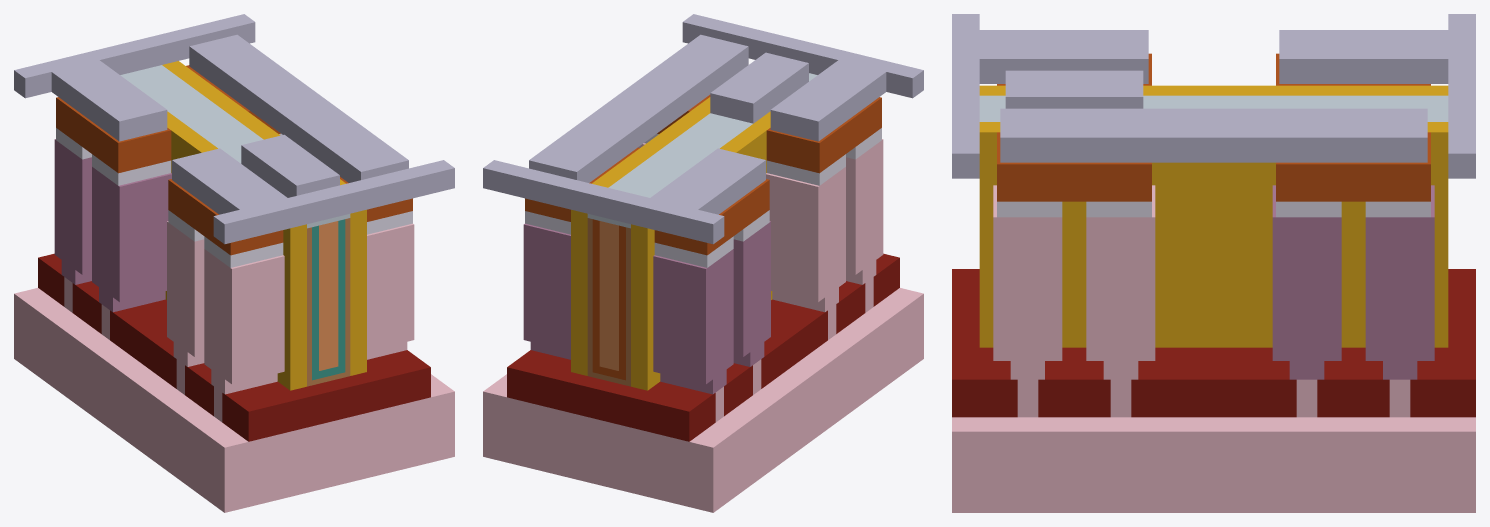
Rendered from inv_fin.obj.
3 views of the same model, side by side, from view 1: azimuth 30°, elevation 25°; view 2: azimuth 150°, elevation 25°; view 3: azimuth 270°, elevation 25° (orthographic). The views are drawn at different scales.
Visible parts, largest first — view 1: n_substrate, n_epi_source, p_epi_source, m1_out, m1_gnd, n_sti, m1_vdd, p_substrate, n_epi_drain, p_sti, m1_in, n_spacer_source (+18 smaller); view 2: p_substrate, p_epi_source, n_epi_source, m1_out, m1_vdd, p_sti, m1_gnd, n_substrate, p_epi_drain, m1_in, n_sti, p_spacer_source (+18 smaller); view 3: m1_out, n_substrate, p_substrate, n_epi_drain, p_epi_drain, b_spacers, n_sti, p_sti, m1_vdd, m1_gnd, n_spacer_drain, p_spacer_drain (+17 smaller).
Part boxes in pixels (x1,y1,x2,y2): n_substrate: (126,370,454,512); n_epi_source: (167,221,284,394); p_epi_source: (54,139,171,312); m1_out: (189,34,408,182); m1_gnd: (172,148,454,244); n_sti: (150,335,430,441); m1_vdd: (14,14,255,141); p_substrate: (14,288,135,430); n_epi_drain: (367,223,414,359); p_sti: (38,253,166,359); m1_in: (241,134,339,197); n_spacer_source: (277,224,306,390); p_substrate: (483,370,811,512); p_epi_source: (653,221,770,394); n_epi_source: (766,139,883,312); m1_out: (529,34,748,182); m1_vdd: (483,148,765,244); p_sti: (507,335,787,441); m1_gnd: (682,14,923,141); n_substrate: (802,288,923,430); p_epi_drain: (523,223,570,359); m1_in: (710,52,808,123); n_sti: (771,253,899,359); p_spacer_source: (631,224,660,390); m1_out: (1000,108,1427,162); n_substrate: (952,417,1196,512); p_substrate: (1231,417,1475,512); n_epi_drain: (993,185,1155,379); p_epi_drain: (1272,185,1434,379); b_spacers: (1169,85,1258,347); n_sti: (952,269,1196,417); p_sti: (1231,269,1475,417); m1_vdd: (1279,14,1475,178); m1_gnd: (952,14,1148,178); n_spacer_drain: (979,122,1169,347); p_spacer_drain: (1258,122,1448,347).
Size of the model in its own units: 96 by 115 by 152.
